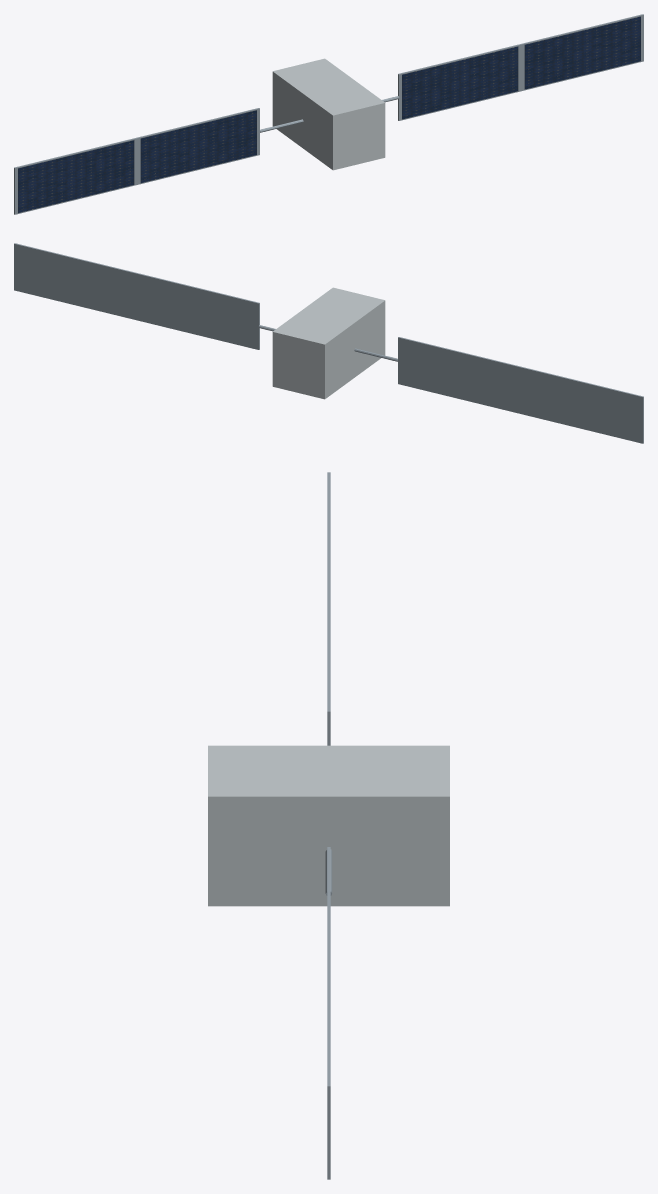
Rendered from ref-dfh-4-44493.glb.
The picture shows the model from 3 angles, top to bottom: view 1: azimuth 30°, elevation 25°; view 2: azimuth 150°, elevation 25°; view 3: azimuth 270°, elevation 25°; orthographic projection. The views are drawn at different scales.
Visible parts, largest first — view 1: Photovoltaic laminates (×4), Spacecraft body, Array frame (×4); view 2: Array frame (×4), Spacecraft body; view 3: Spacecraft body.
Boxes of the visible parts, box(x1,y1,x2,y2) form: Photovoltaic laminates (×4): box(18, 16, 640, 212); Spacecraft body: box(272, 58, 385, 170); Array frame (×4): box(14, 14, 643, 214); Array frame (×4): box(14, 243, 643, 443); Spacecraft body: box(272, 287, 385, 399); Spacecraft body: box(208, 745, 449, 906).
Bounding box in the file's own units: 30 × 2.5 × 5.
3 materials, 1 textured.
